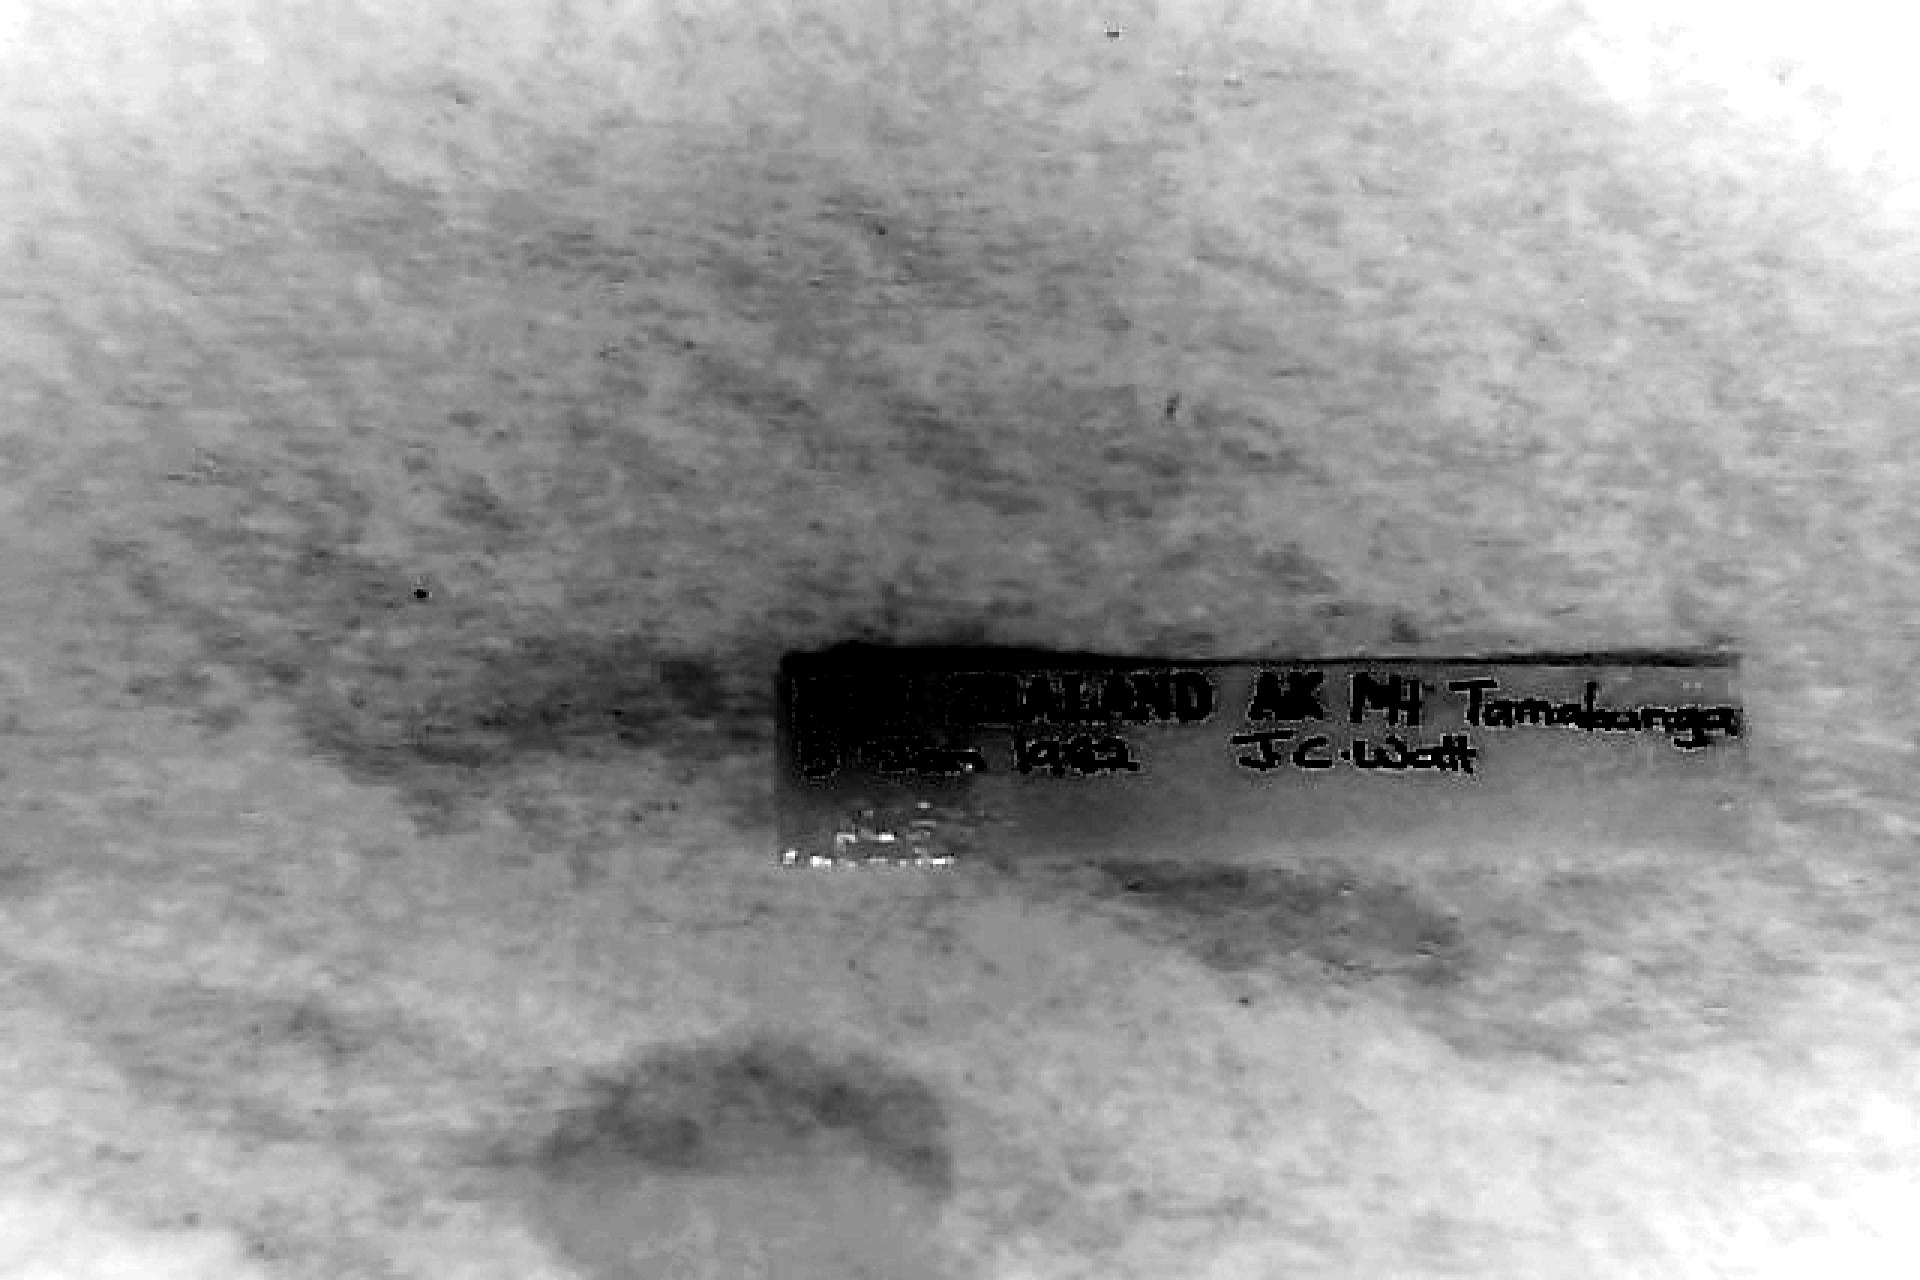mixed_label: (776, 653, 1740, 862)
